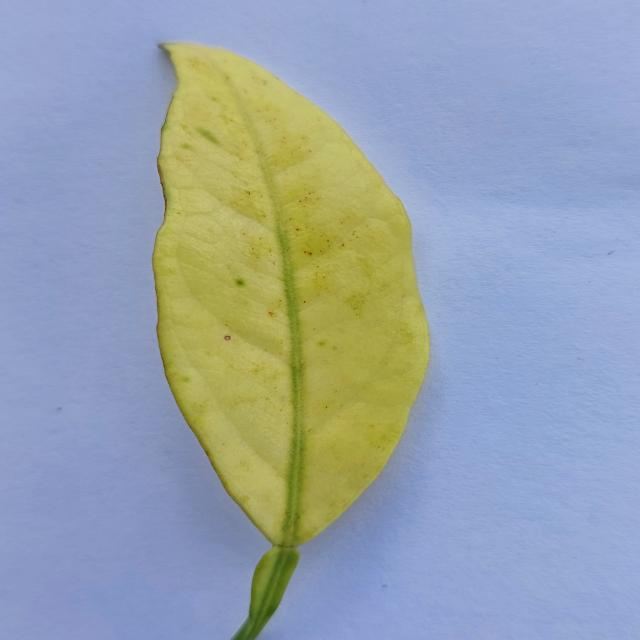greening: (153, 43, 428, 640)
